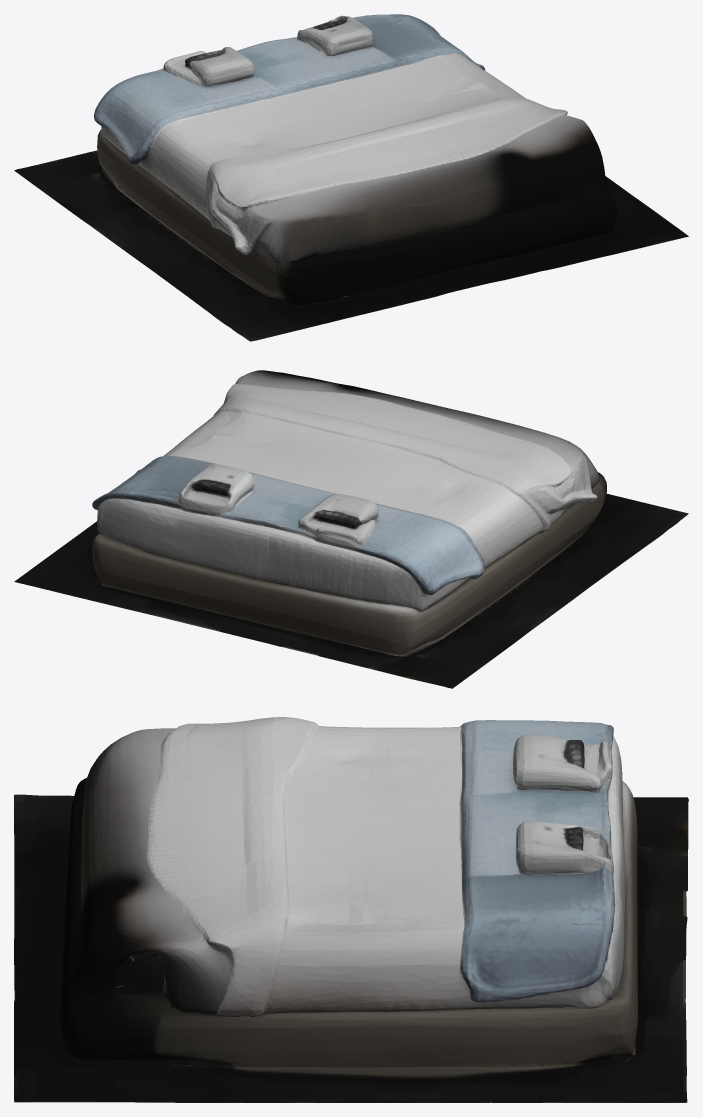
The model's file is bed.glb.
3 renders of one model, top to bottom at view 1: azimuth 30°, elevation 25°; view 2: azimuth 150°, elevation 25°; view 3: azimuth 270°, elevation 25°, orthographic. The views are drawn at different scales.
Parts seen in each view (by area): view 1: world; view 2: world; view 3: world.
Part boxes in pixels (x1,y1,x2,y2): world: [14, 14, 688, 341]; world: [14, 370, 688, 688]; world: [14, 717, 688, 1102].
Size of the model in its own units: 1 by 0.2455 by 0.936.
1 material, 1 textured.
